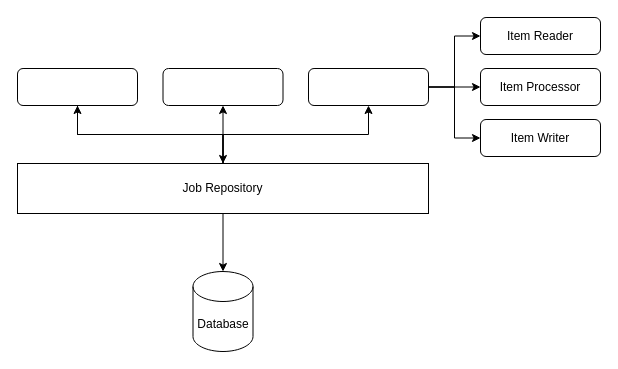
Image size: 618x369. Some labels were removed from this diagram. The shapes that lost their labels are listed below. From the top down, each one's box as (x1, y1, x2, y2) in pixels, then its label:
(16, 68, 138, 106): Job Launcher
(162, 68, 283, 106): Job
(308, 68, 428, 106): Step
